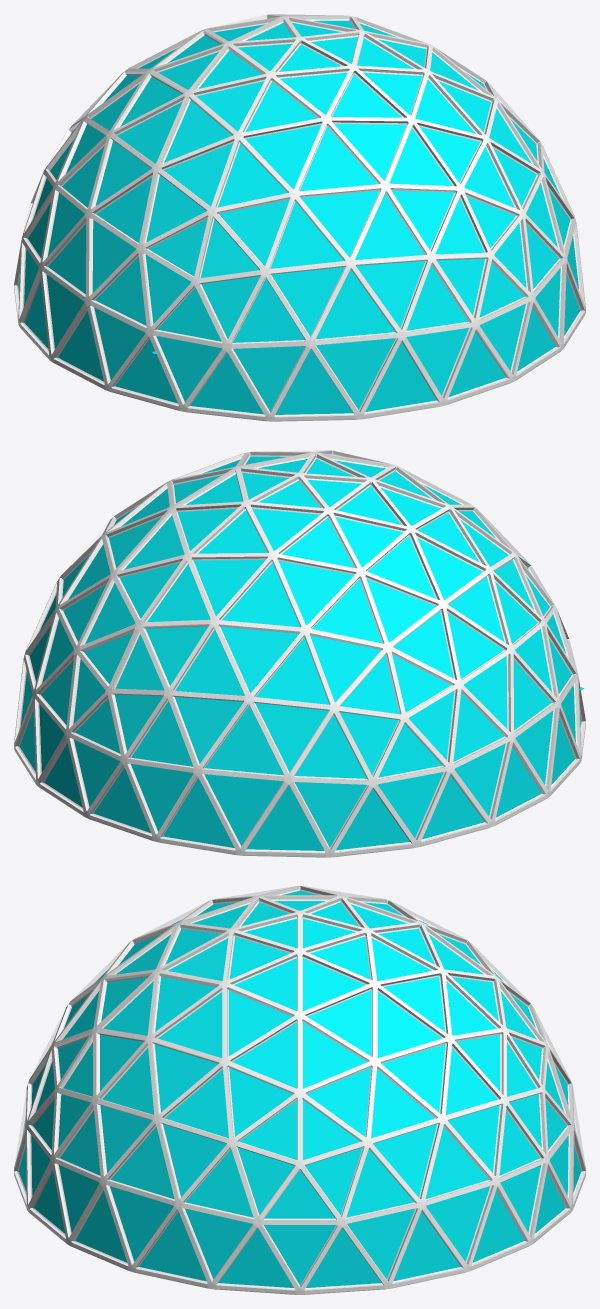
The model's file is Dome.fbx.
3 renders of one model, top to bottom at view 1: azimuth 30°, elevation 25°; view 2: azimuth 150°, elevation 25°; view 3: azimuth 270°, elevation 25°, orthographic.
Visible parts, largest first — view 1: Icosphere; view 2: Icosphere; view 3: Icosphere.
Part boxes in pixels (box(x1,y1,x2,y2)): Icosphere: box(14, 14, 585, 421); Icosphere: box(14, 450, 585, 857); Icosphere: box(14, 886, 585, 1294).
Size of the model in its own units: 19946 by 10060 by 19945.
